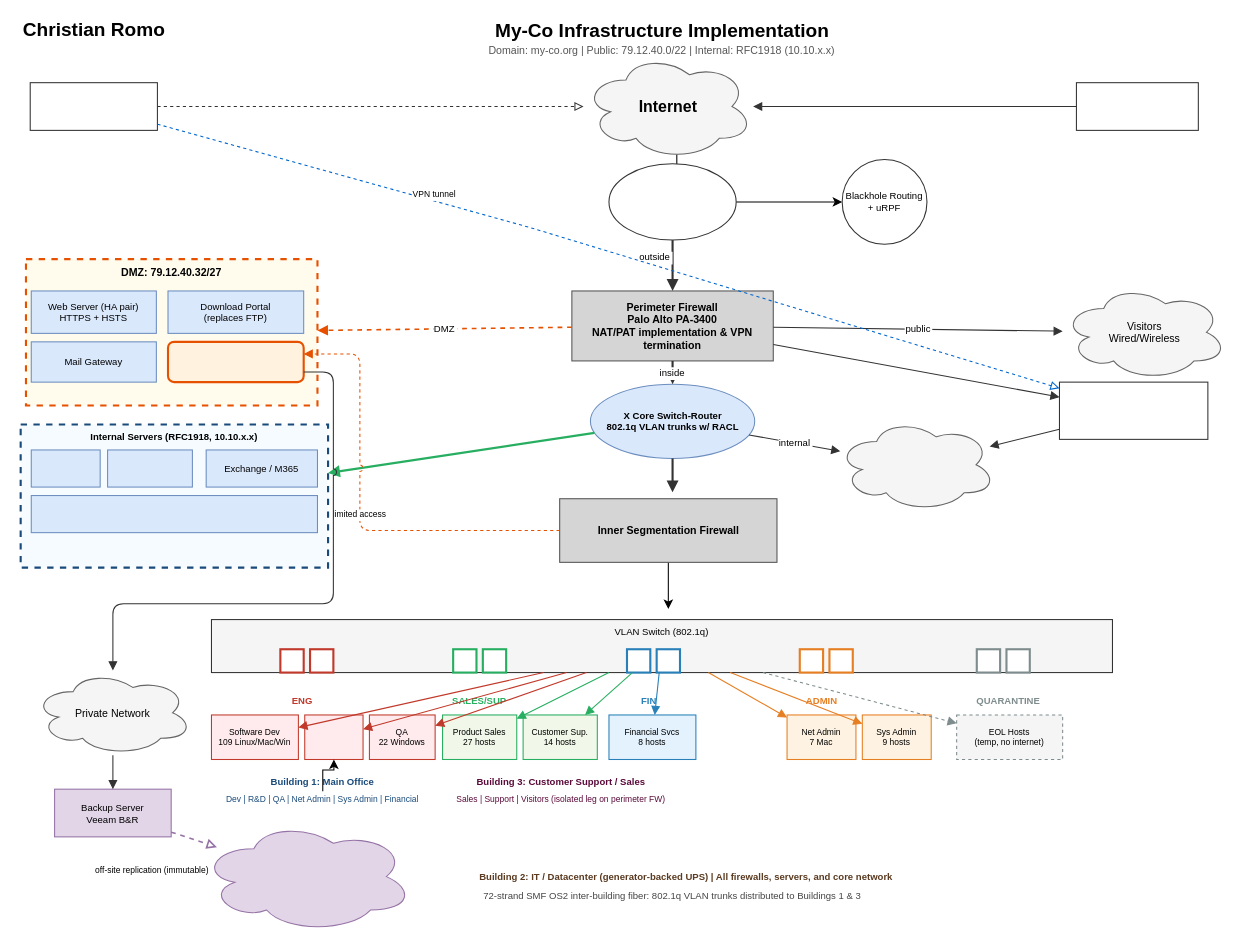
Some shapes in this 1245 by 951 pixel diagram are drawn without their labels. Each missing label, with the centre of its shape:
"At-Home/Travelling Employee" belongs at point 93,106.
"Bastion Host SSH key + MFA" belongs at point 235,361.
"Cloud Backup (Immutable / Off-site) AWS S3 Object Lock" belongs at point 306,876.
"Customers (HTTPS only)" belongs at point 1136,106.
"Internal Apps / Web Origin" belongs at point 173,513.
"NAS" belongs at point 65,468.
"RA VPN GlobalProtect + MFA" belongs at point 1133,410.
"Research & Development 31 Linux" belongs at point 333,736.
"SQL Cluster" belongs at point 149,468.
"VPN Auth Wireless" belongs at point 916,464.
"X Edge Router w/ configured ACL" belongs at point 672,201.
